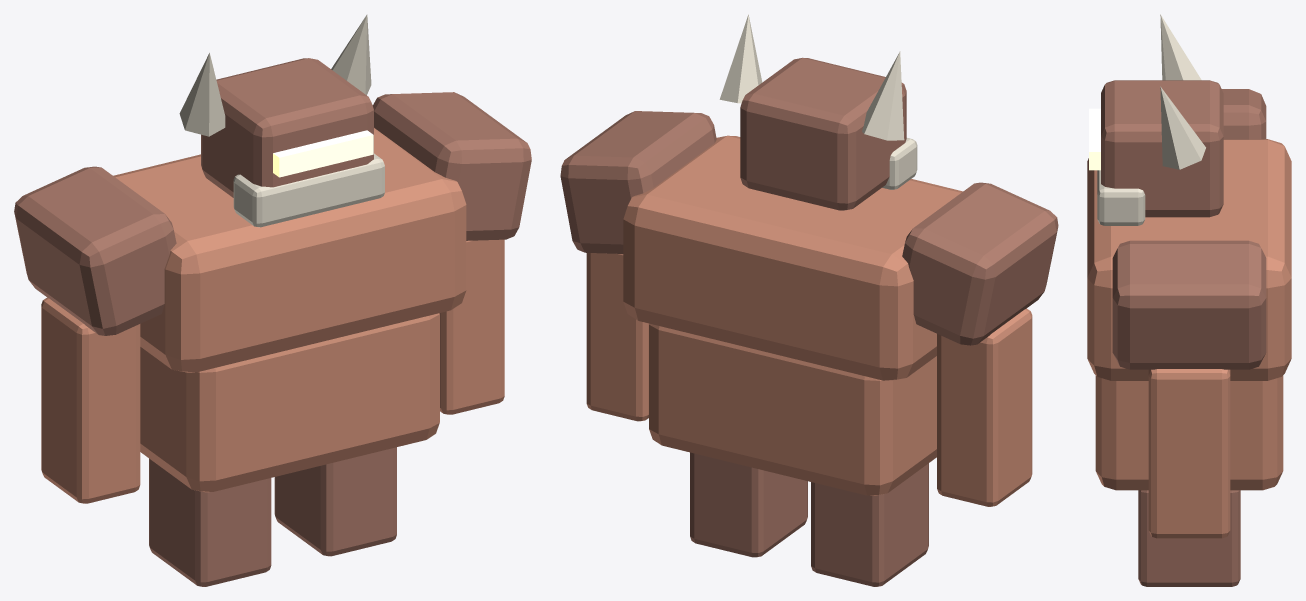
The model's file is enemy_rusher.glb.
3 renders of one model, left to right at view 1: azimuth 30°, elevation 25°; view 2: azimuth 150°, elevation 25°; view 3: azimuth 270°, elevation 25°, orthographic. The views are drawn at different scales.
Parts seen in each view (by area): view 1: enemy_rusher; view 2: enemy_rusher; view 3: enemy_rusher.
Boxes of the visible parts, x1,y1,x2,y2 form: enemy_rusher: (14, 14, 531, 586); enemy_rusher: (560, 14, 1058, 586); enemy_rusher: (1087, 14, 1291, 586).
Size of the model in its own units: 1.43 by 1.6 by 0.6.
